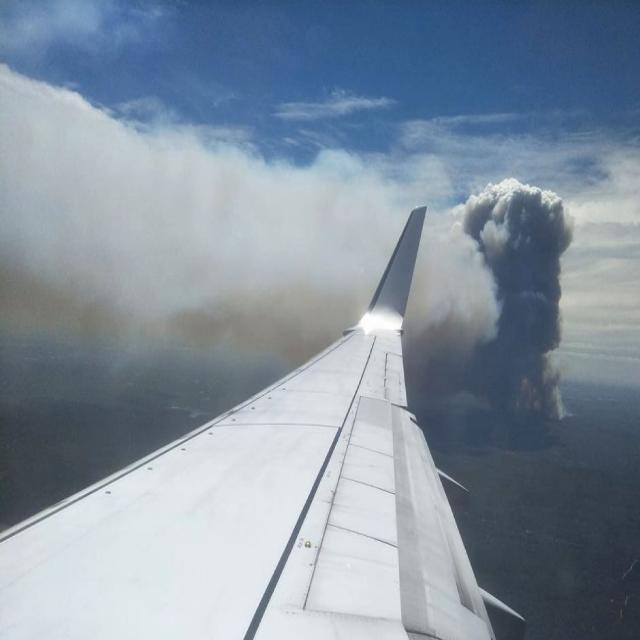Smoke: (456, 177, 578, 427)
